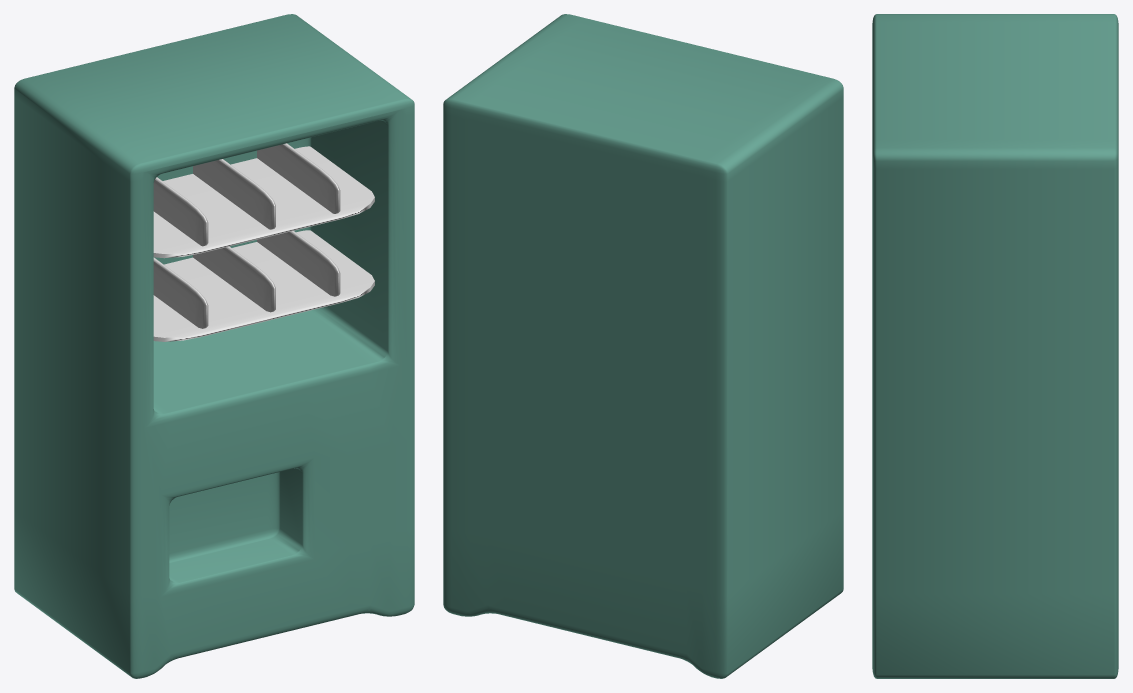
The model's file is Vending.fbx.
3 views of the same model, side by side, from view 1: azimuth 30°, elevation 25°; view 2: azimuth 150°, elevation 25°; view 3: azimuth 270°, elevation 25° (orthographic). The views are drawn at different scales.
Parts seen in each view (by area): view 1: Cube, Cube.001, Cube.002, Cube.005, Cube.004, Cube.008, Cube.007, Cube.006, Cube.003; view 2: Cube; view 3: Cube.
Part boxes in pixels (x1,y1,x2,y2): Cube: (14, 14, 414, 678); Cube.001: (153, 146, 374, 258); Cube.002: (153, 230, 374, 341); Cube.005: (257, 143, 340, 213); Cube.004: (193, 159, 275, 229); Cube.008: (257, 231, 340, 296); Cube.007: (193, 246, 275, 312); Cube.006: (153, 257, 208, 328); Cube.003: (153, 177, 208, 246); Cube: (443, 14, 843, 678); Cube: (872, 14, 1118, 678).
Bounding box in the file's own units: 110 × 190 × 80.
